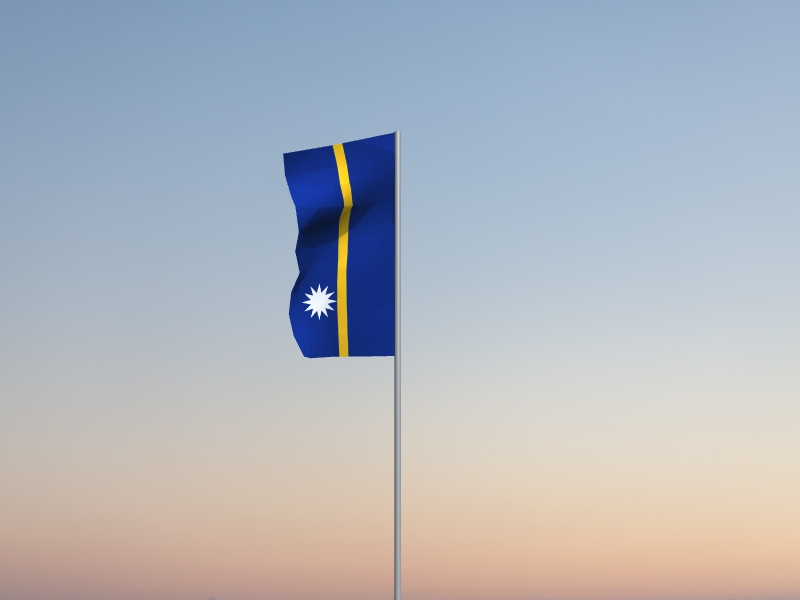nr: (282, 133, 395, 359)
